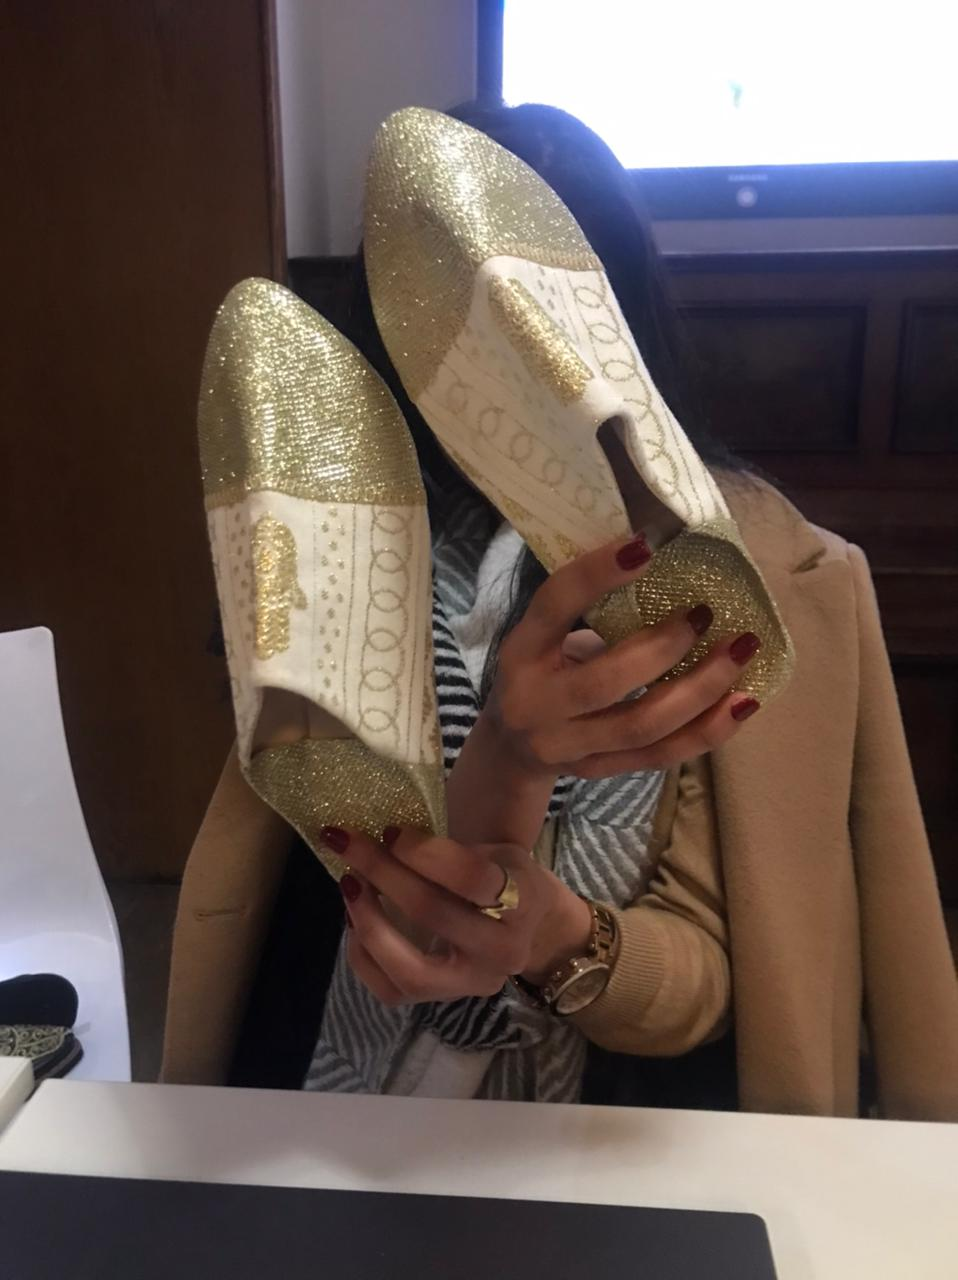balgha: (140, 199, 795, 1021), (344, 90, 829, 827), (168, 276, 471, 958)
